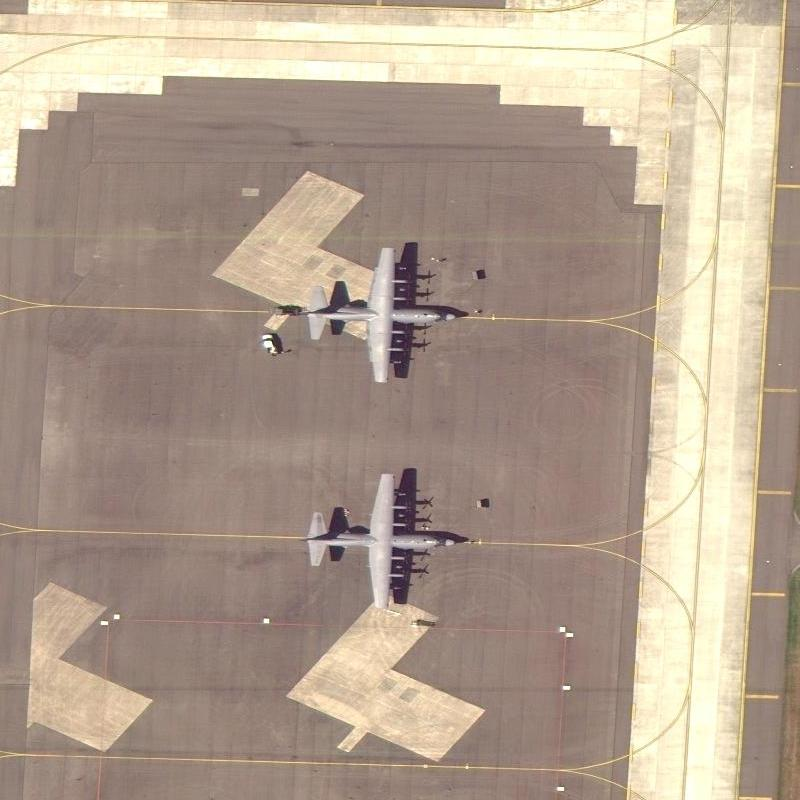A2: (297, 239, 462, 390), (298, 467, 460, 616)
